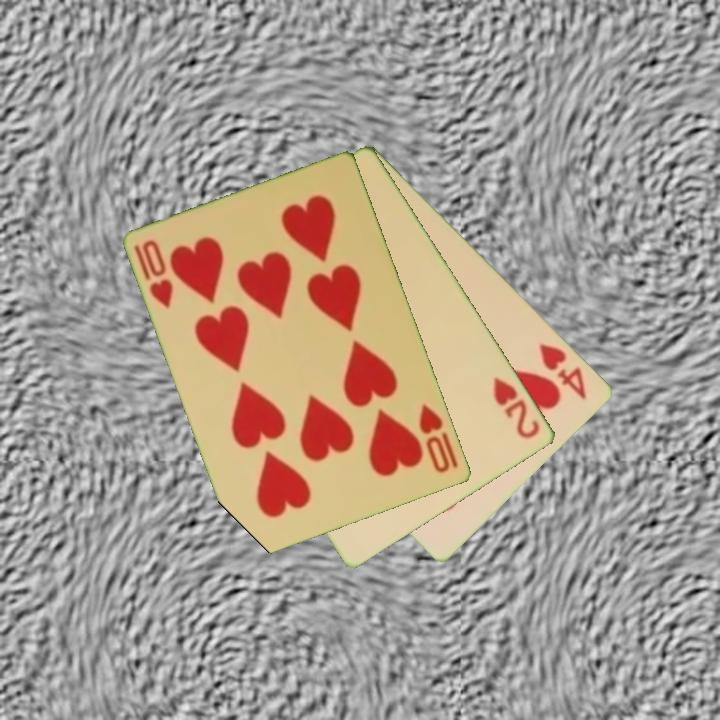10h: (130, 236, 177, 311), (416, 401, 462, 476)
2h: (490, 373, 543, 442)
4h: (536, 340, 590, 402)
